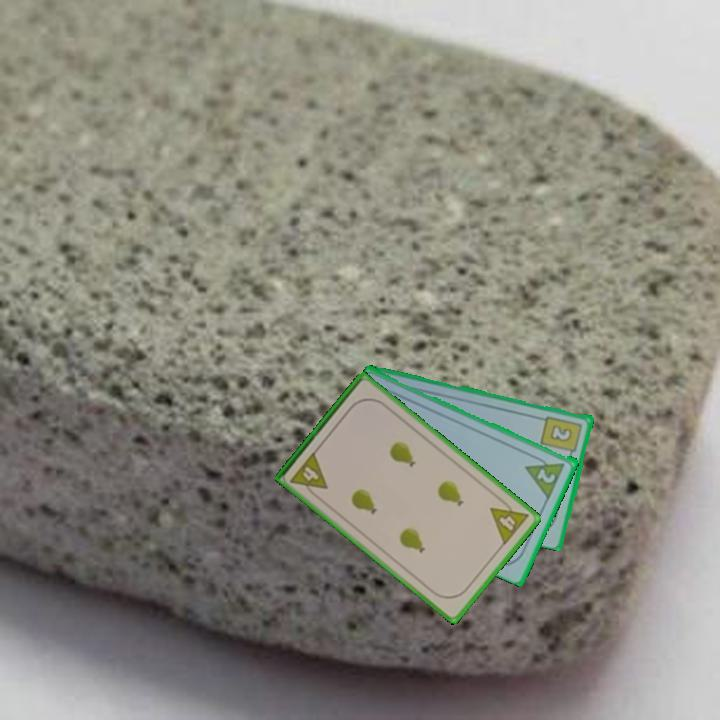2b: (538, 412, 585, 460)
2p: (534, 464, 559, 486)
4p: (487, 494, 531, 548), (287, 448, 331, 501)
